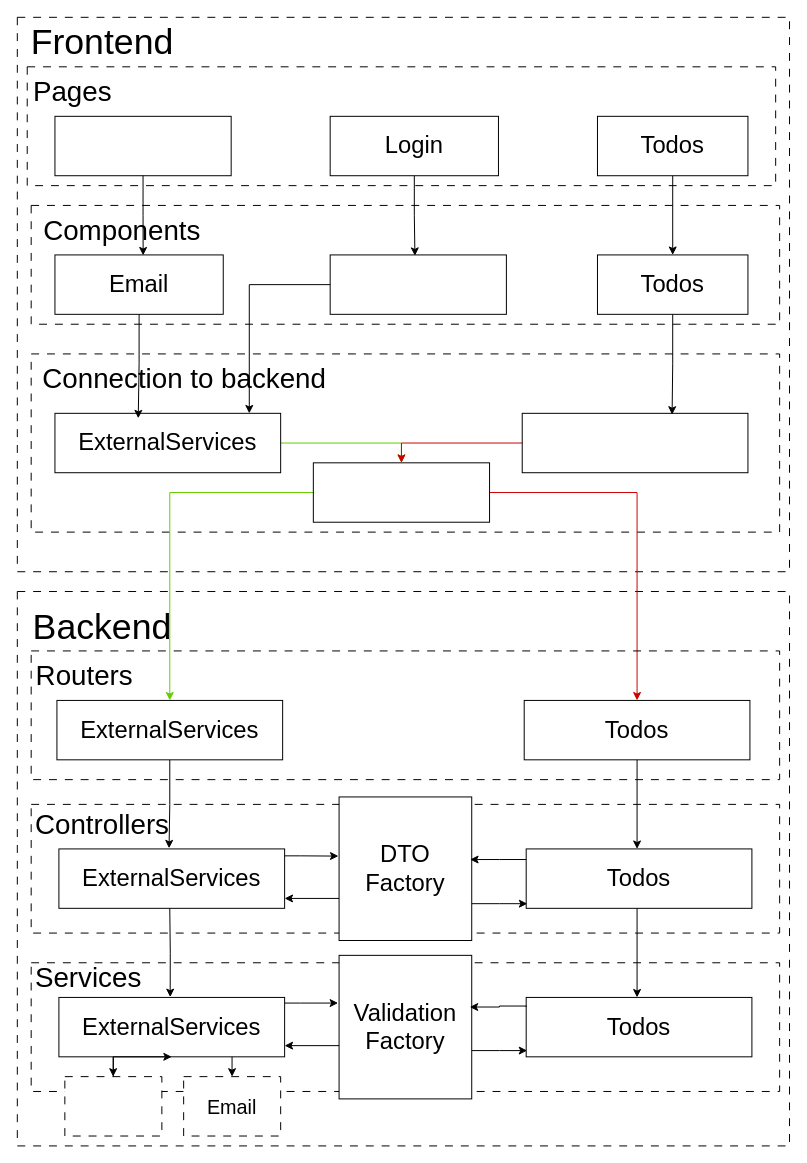
Image size: 807x1163. Some labels were removed from this diagram. The centre of each missing label's shape, as x and y in pixels:
"External Service" belongs at (113,1106).
"General" belongs at (417,284).
"Home/Emails" belongs at (142,145).
"RouterHandler" belongs at (401,492).
"TodosServices" belongs at (634,442).
